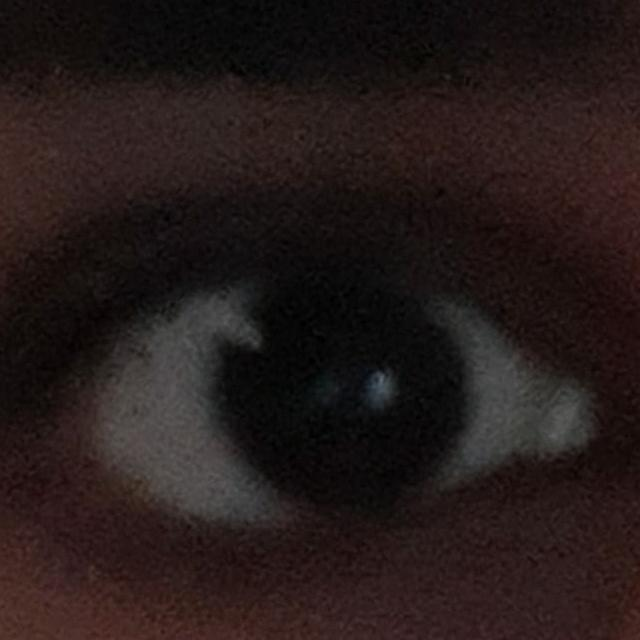eye: (84, 264, 602, 535)
iris: (218, 281, 472, 499)
